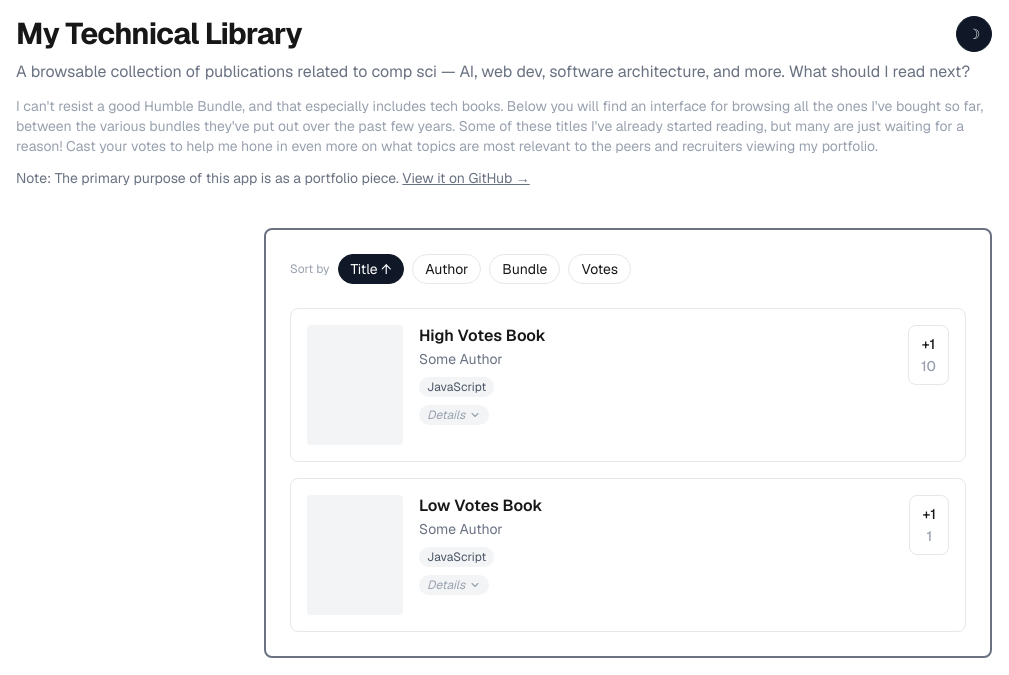
Test: BookShelf › sorting › reverses sort order when the active field is clicked again
What coordinates should you click on to do the following:
click the button "Votes"
I would click on:
 (600, 269)
Its box is [568, 254, 631, 284].
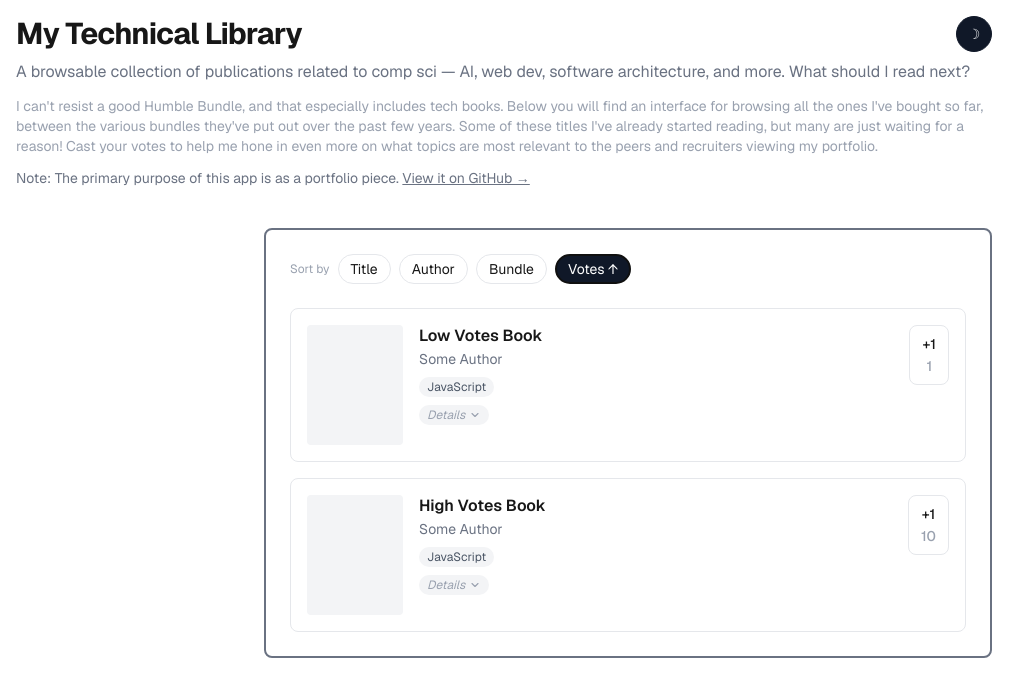
What coordinates should you click on to do the following:
click the button "Votes ↑"
I would click on:
 (593, 269)
Its box is [555, 254, 631, 284].
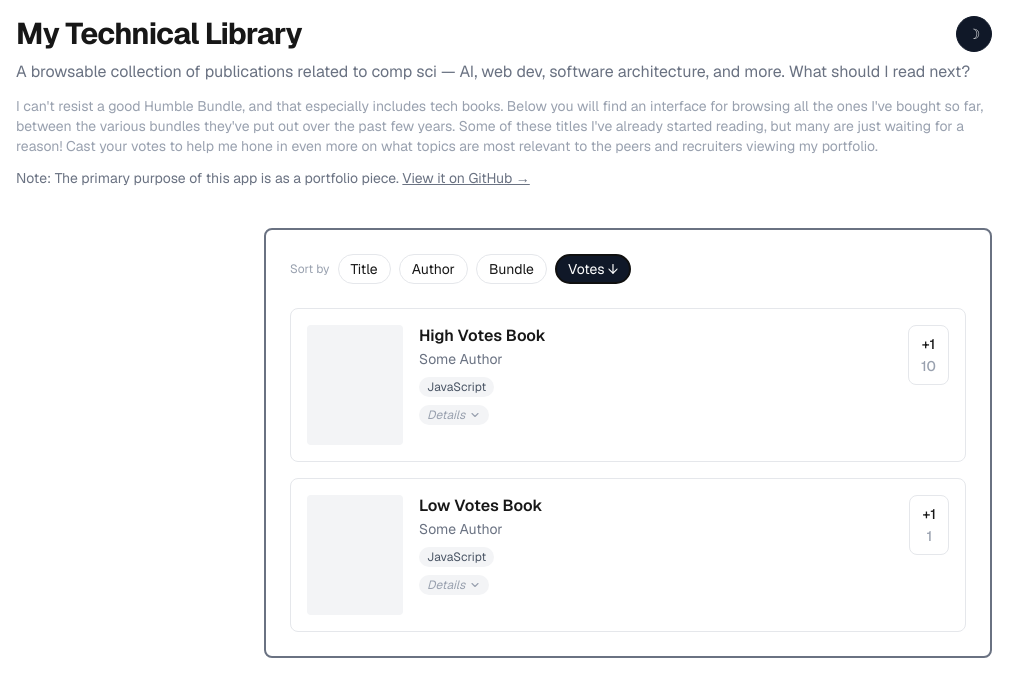
Now the list item "High Votes Book Some Author JavaScript Details +1 10" is shown, box [290, 308, 966, 462]
Now the list item "Low Votes Book Some Author JavaScript Details +1 1" is shown, box [290, 478, 966, 632]
